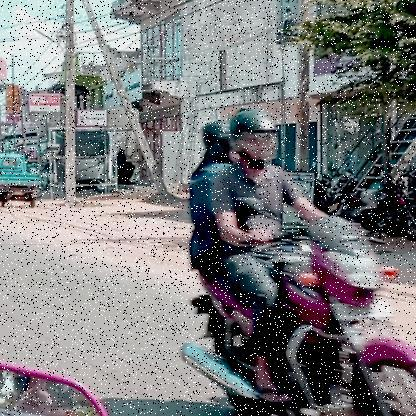motorcycle: (176, 213, 416, 416)
